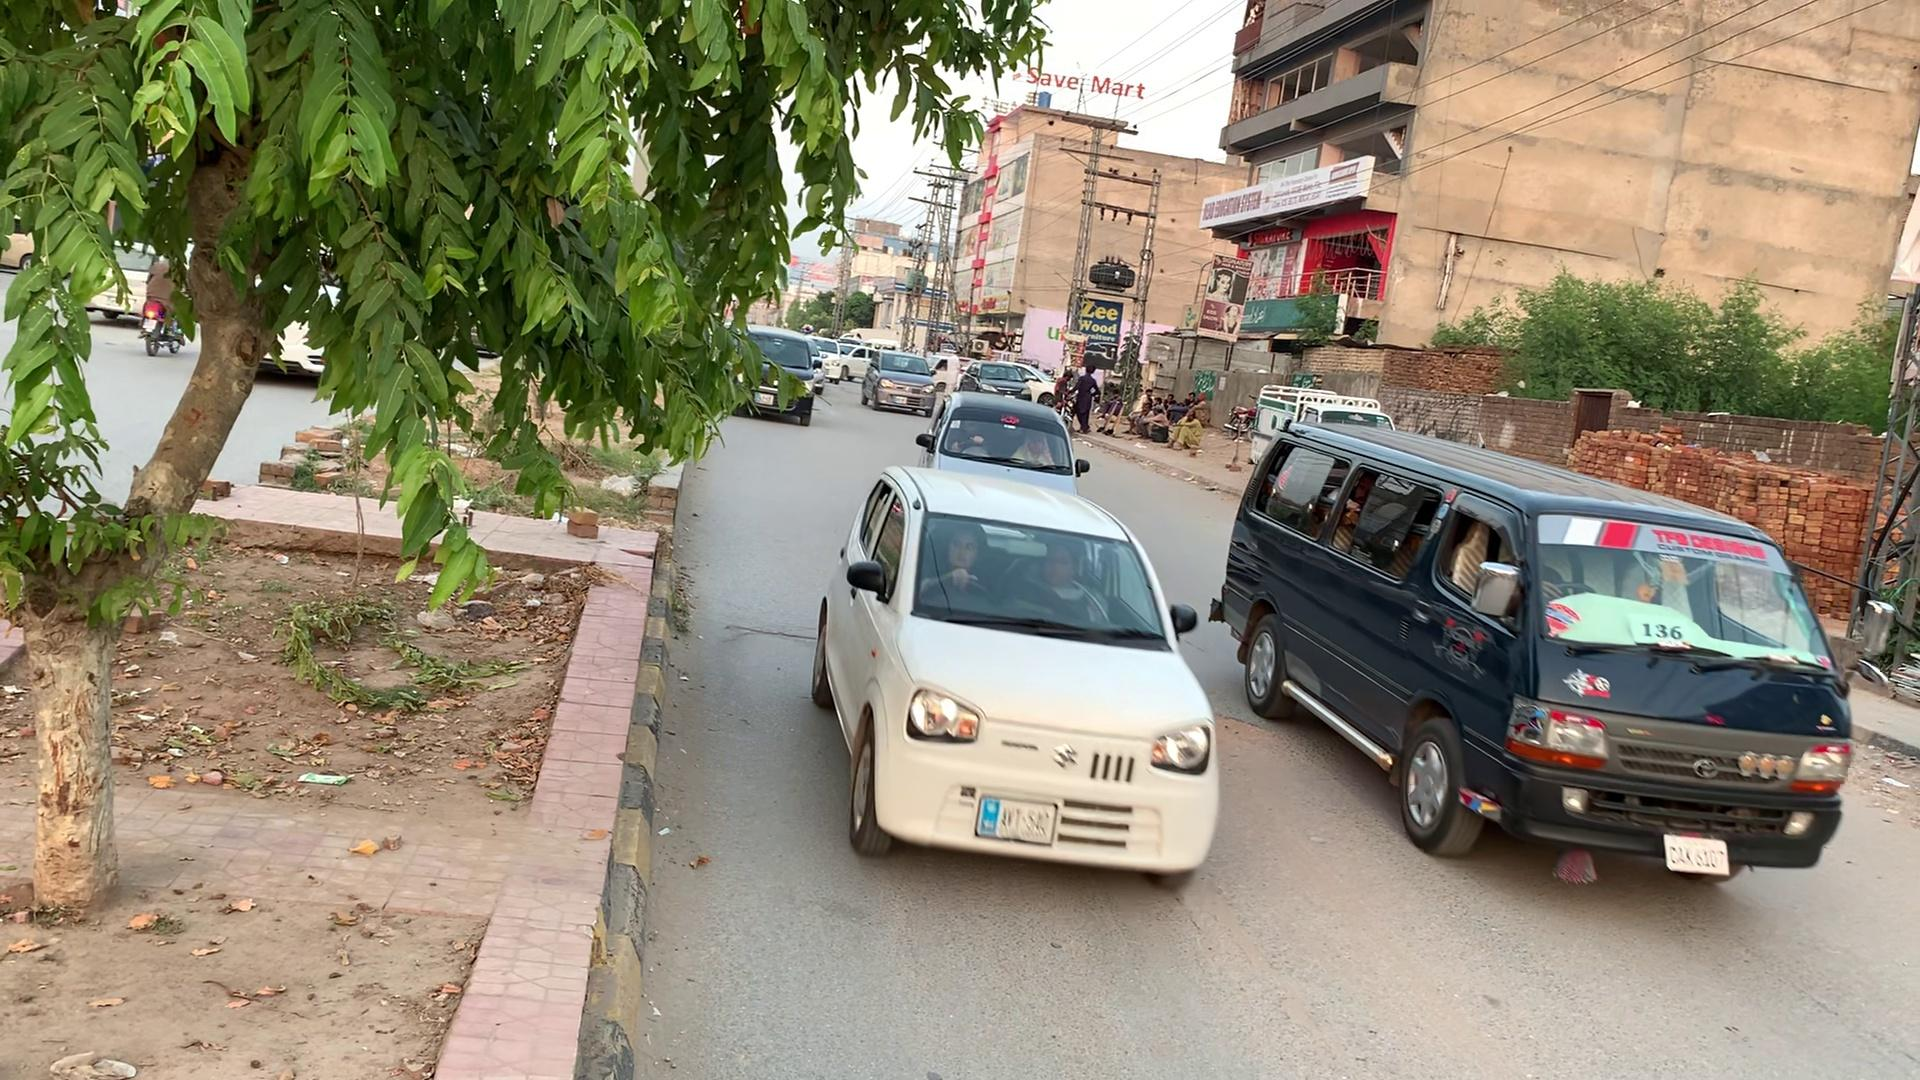windshield: (1520, 517, 1850, 680), (903, 504, 1187, 657)
